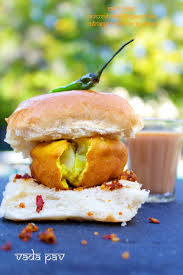vada pav: (39, 95, 123, 219)
